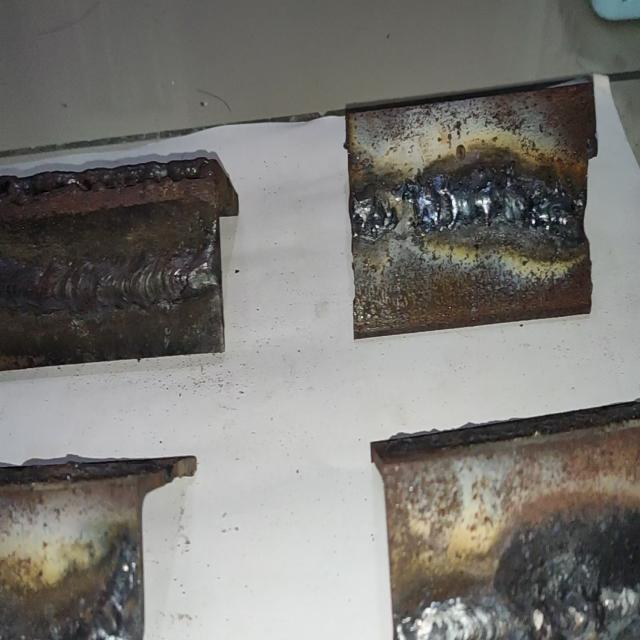Defect: (527, 533, 640, 639), (492, 164, 582, 255), (354, 176, 426, 243)
Welding Line: (5, 243, 222, 318)
Workpiece: (346, 75, 600, 347), (370, 413, 640, 640), (0, 154, 225, 373), (0, 461, 146, 640)
